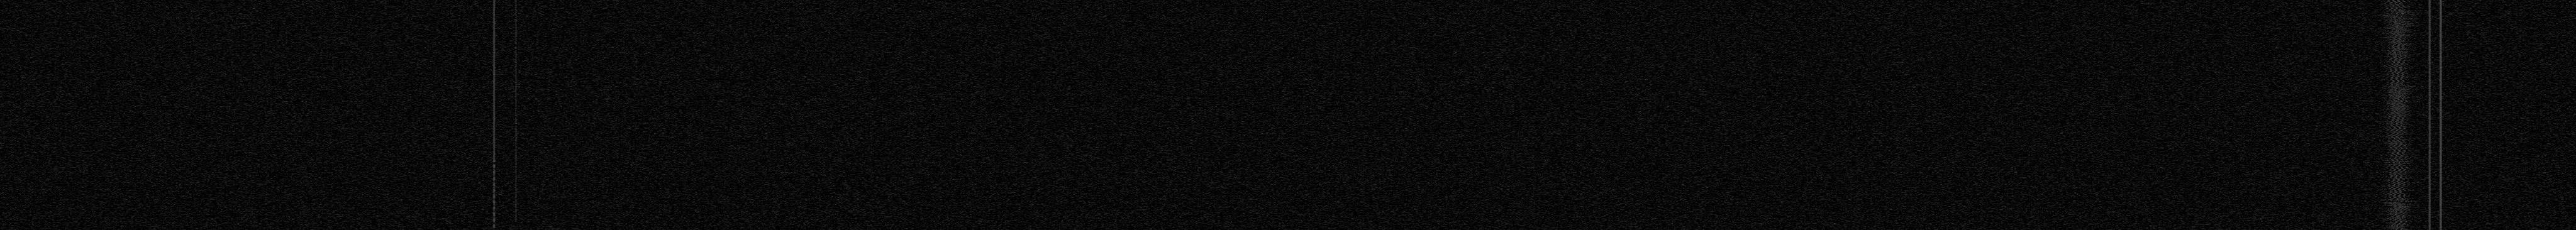wv_am: (2440, 0, 2443, 230), (493, 0, 496, 228), (514, 0, 517, 222)
wv_cw: (2428, 0, 2431, 230)
wv_wbfm: (2371, 0, 2423, 230)
